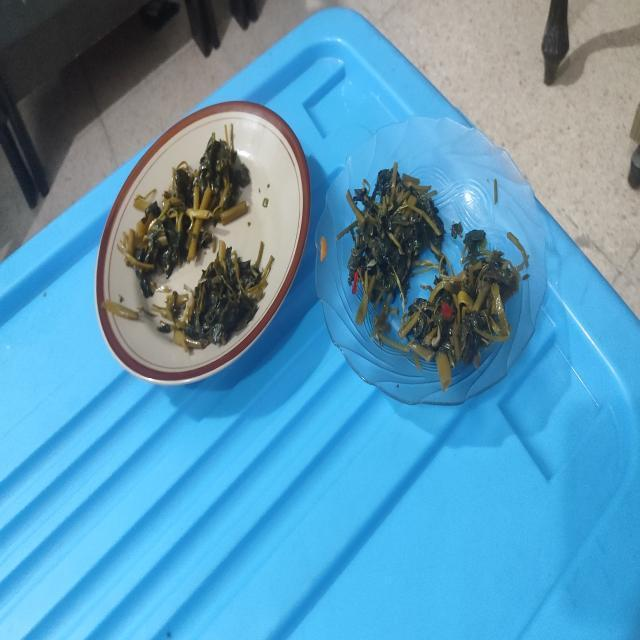tumis_kangkung: (118, 125, 250, 298), (398, 230, 530, 390), (336, 162, 446, 320), (158, 241, 274, 351)
